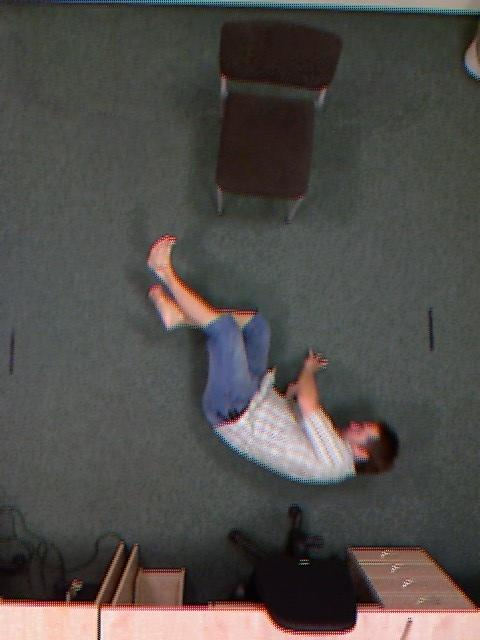fall: (177, 186, 368, 534)
